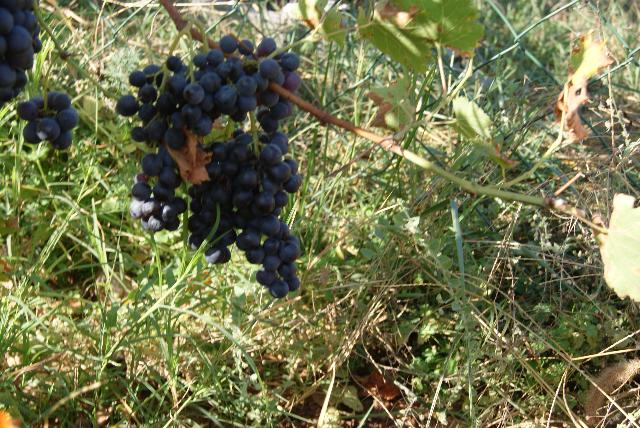grapes: (116, 59, 216, 231), (222, 132, 302, 298), (194, 41, 300, 120), (188, 142, 252, 264), (16, 91, 79, 150)
